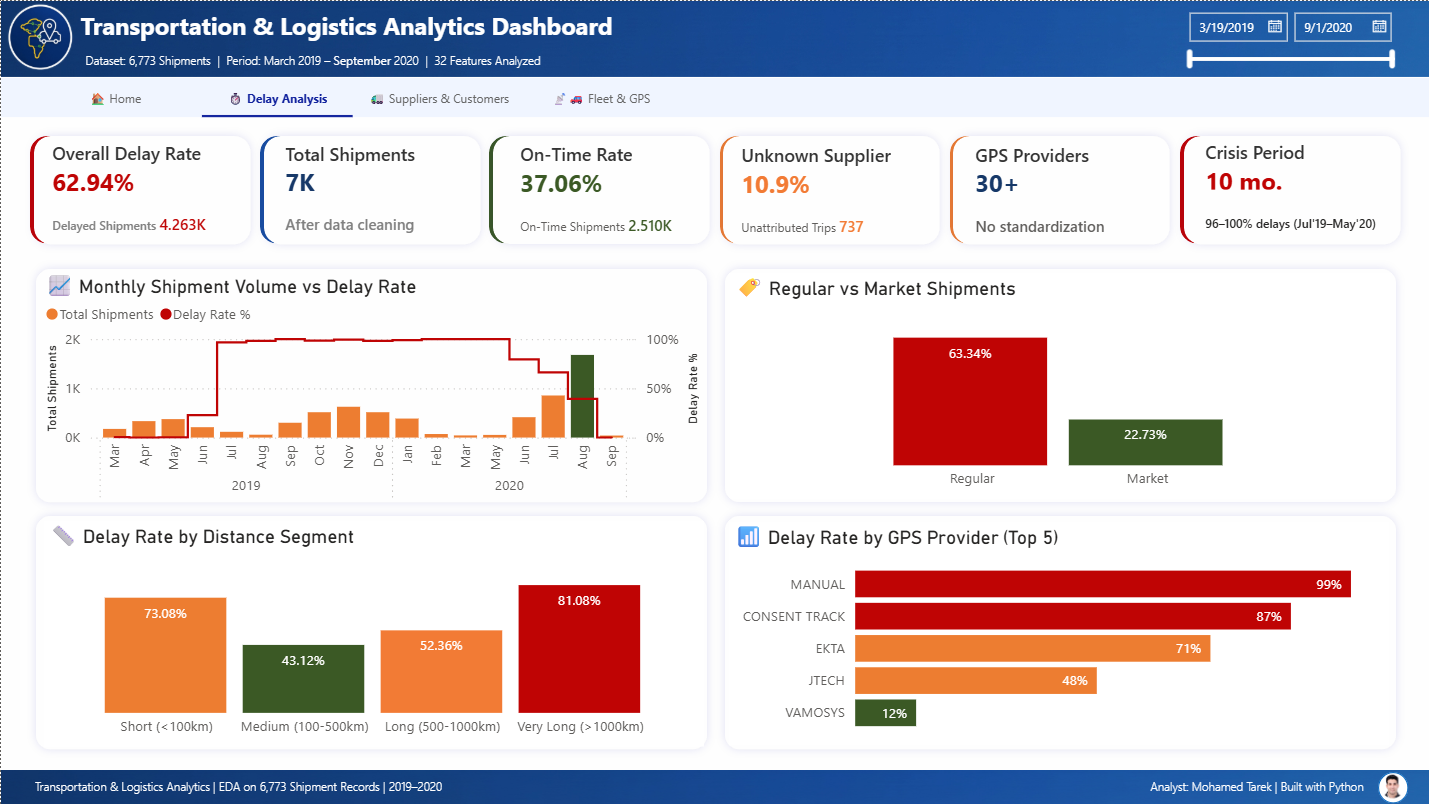

The dashboard page shown, as its layout file describes it:
{"tool":"powerbi","page":{"name":"⏱️ Delay Analysis","canvas":[1280,720],"ordinal":1},"visuals":[{"type":"shape","box":[0,69,1280,35.4],"z":0},{"type":"shape","box":[23.3,231.8,617,225],"z":1000},{"type":"shape","box":[640.4,232,617,224.8],"z":2000},{"type":"shape","box":[23.3,453.1,617,225],"z":3000},{"type":"shape","box":[640.3,453.1,617,225],"z":4000},{"type":"image","box":[0,688.7,1279.7,31.3],"z":5000},{"type":"textbox","box":[23.3,688.7,378.8,31.3],"z":6000},{"type":"image","box":[0,0,1279.7,68.1],"z":7000},{"type":"shape","box":[13.4,9.7,45.7,43.9],"z":8000},{"type":"textbox","box":[66.3,2.7,598.2,51],"z":9000},{"type":"textbox","box":[70.7,38.5,440.6,34],"z":10000},{"type":"textbox","box":[978.2,689.1,293.6,30.9],"z":11000},{"type":"shape","box":[1232.7,690,27.3,28.2],"z":12000},{"type":"image","box":[1223.6,687.9,45.7,30.7],"z":13000},{"type":"columnChart","title":"📏 Delay Rate by Distance Segment","fields":{"Y":["_Measures.Delay Rate %"],"Category":["transportation_logistic.distance_segment"]},"box":[38.2,465.3,590.6,201.8],"z":14000},{"type":"columnChart","title":"🏷️ Regular vs Market Shipments","fields":{"Y":["_Measures.Delay Rate %"],"Category":["transportation_logistic.Market_Regular"]},"box":[653.2,243.3,591.1,202.2],"z":15000},{"type":"clusteredBarChart","title":"📶 Delay Rate by GPS Provider (Top 5)","fields":{"Category":["logistics_cleaned.GpsProvider"],"Y":["_Measures.GpsProvider_Delay_Rate_Over_100"]},"box":[652.2,466.7,591.1,200],"z":16000},{"type":"lineClusteredColumnComboChart","title":"📈 Monthly Shipment Volume vs Delay Rate","fields":{"Y":["_Measures.Total Shipments"],"Category":["Calendar_Table.Year","Calendar_Table.MonthShortName"],"Y2":["_Measures.Delay Rate %"]},"box":[35,241.7,595,214.2],"z":17000},{"type":"shape","box":[26.2,121.2,192,96.2],"z":18000},{"type":"shape","box":[232,121.2,191.2,96.2],"z":19000},{"type":"shape","box":[437.1,121.2,192.5,96.2],"z":20000},{"type":"shape","box":[643.5,121.2,192.5,96.2],"z":21000},{"type":"shape","box":[849.8,121.2,192.5,96.2],"z":22000},{"type":"shape","box":[1056.2,121.2,192.5,96.2],"z":23000},{"type":"shape","box":[1051.4,112.9,210,113],"z":24000},{"type":"shape","box":[844.4,112.9,210,113],"z":25000},{"type":"shape","box":[638.4,112.9,210,113],"z":26000},{"type":"shape","box":[432.7,112.7,210,112.7],"z":27000},{"type":"shape","box":[227.4,112.9,210,113],"z":28000},{"type":"shape","box":[21.4,112.9,210,113],"z":29000},{"type":"cardVisual","title":"Overall Delay Rate","fields":{"Data":["_Measures.Delay Rate %"]},"box":[0,95.5,242.7,160],"z":30000},{"type":"cardVisual","title":"Total Shipments","fields":{"Data":["_Measures.Total Shipments"]},"box":[208.5,94.8,278,162],"z":31000},{"type":"cardVisual","title":"On-Time Deliveries","fields":{"Data":["_Measures.On-Time Rate %"]},"box":[419.1,96.4,232.7,160.9],"z":32000},{"type":"cardVisual","title":"Unknown Supplier","fields":{"Data":["_Measures.Unknown Supplier %"]},"box":[617.5,98.8,260,157],"z":33000},{"type":"cardVisual","title":"Crisis Period","fields":{"Data":["_Measures.Crisis Period Duration"]},"box":[1032.7,94.5,247.3,158.2],"z":34000},{"type":"cardVisual","title":"Crisis Period","fields":{"Data":["_Measures.GPS Providers Count"]},"box":[826.5,95.8,216,163],"z":35000},{"type":"image","box":[1.7,0,66.7,67.5],"z":36000},{"type":"pageNavigator","title":"📊 Overview","box":[34.7,68,571.3,36],"z":37000},{"type":"slicer","fields":{"Values":["Calendar_Table.Date"]},"box":[1051.3,5.3,210,63.3],"z":38000}]}

Visuals, with their boxes in screenshot pixels (x1, y1, x2, y2), scaled from the page's 1280x720 canvas onto the 1429x804 screenshot:
shape: [x1=0, y1=77, x2=1428, y2=117]
shape: [x1=26, y1=259, x2=715, y2=510]
shape: [x1=715, y1=259, x2=1404, y2=510]
shape: [x1=26, y1=506, x2=715, y2=757]
shape: [x1=715, y1=506, x2=1404, y2=757]
image: [x1=0, y1=769, x2=1428, y2=803]
textbox: [x1=26, y1=769, x2=449, y2=803]
image: [x1=0, y1=0, x2=1428, y2=76]
shape: [x1=15, y1=11, x2=66, y2=60]
textbox: [x1=74, y1=3, x2=742, y2=60]
textbox: [x1=79, y1=43, x2=571, y2=81]
textbox: [x1=1092, y1=769, x2=1420, y2=803]
shape: [x1=1376, y1=770, x2=1407, y2=802]
image: [x1=1366, y1=768, x2=1417, y2=802]
"📏 Delay Rate by Distance Segment" columnChart: [x1=43, y1=520, x2=702, y2=745]
"🏷️ Regular vs Market Shipments" columnChart: [x1=729, y1=272, x2=1389, y2=497]
"📶 Delay Rate by GPS Provider (Top 5)" clusteredBarChart: [x1=728, y1=521, x2=1388, y2=744]
"📈 Monthly Shipment Volume vs Delay Rate" lineClusteredColumnComboChart: [x1=39, y1=270, x2=703, y2=509]
shape: [x1=29, y1=135, x2=244, y2=243]
shape: [x1=259, y1=135, x2=472, y2=243]
shape: [x1=488, y1=135, x2=703, y2=243]
shape: [x1=718, y1=135, x2=933, y2=243]
shape: [x1=949, y1=135, x2=1164, y2=243]
shape: [x1=1179, y1=135, x2=1394, y2=243]
shape: [x1=1174, y1=126, x2=1408, y2=252]
shape: [x1=943, y1=126, x2=1177, y2=252]
shape: [x1=713, y1=126, x2=947, y2=252]
shape: [x1=483, y1=126, x2=718, y2=252]
shape: [x1=254, y1=126, x2=488, y2=252]
shape: [x1=24, y1=126, x2=258, y2=252]
"Overall Delay Rate" cardVisual: [x1=0, y1=107, x2=271, y2=285]
"Total Shipments" cardVisual: [x1=233, y1=106, x2=543, y2=287]
"On-Time Deliveries" cardVisual: [x1=468, y1=108, x2=728, y2=287]
"Unknown Supplier" cardVisual: [x1=689, y1=110, x2=980, y2=286]
"Crisis Period" cardVisual: [x1=1153, y1=106, x2=1428, y2=282]
"Crisis Period" cardVisual: [x1=923, y1=107, x2=1164, y2=289]
image: [x1=2, y1=0, x2=76, y2=75]
"📊 Overview" pageNavigator: [x1=39, y1=76, x2=677, y2=116]
slicer - Calendar_Table.Date: [x1=1174, y1=6, x2=1408, y2=77]
